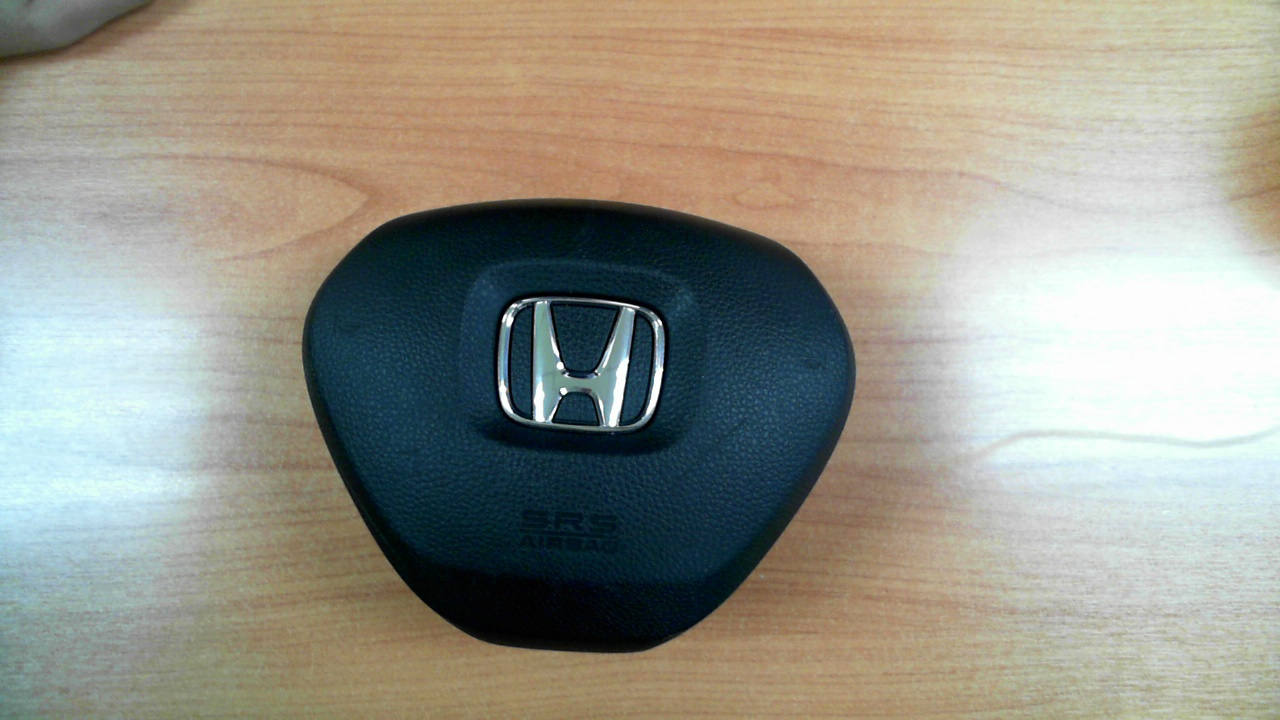Airbag: (302, 197, 857, 653)
Honda: (496, 296, 666, 435)
